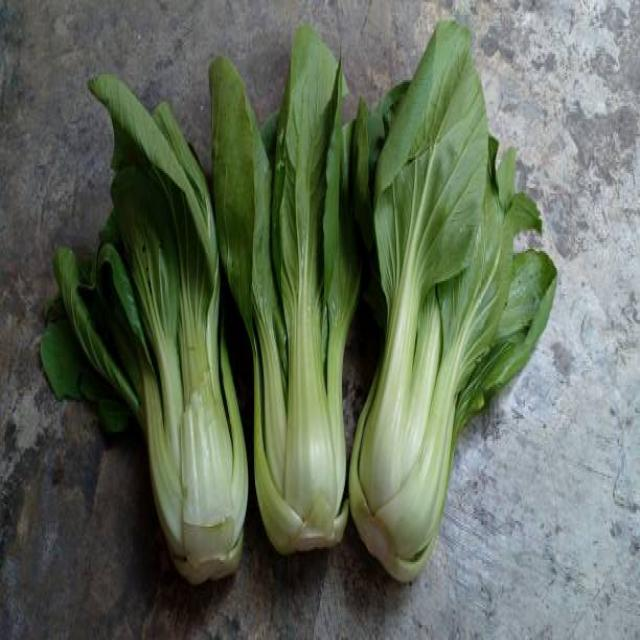Bok Choy: (366, 21, 527, 608), (79, 100, 231, 612), (236, 85, 344, 567)
